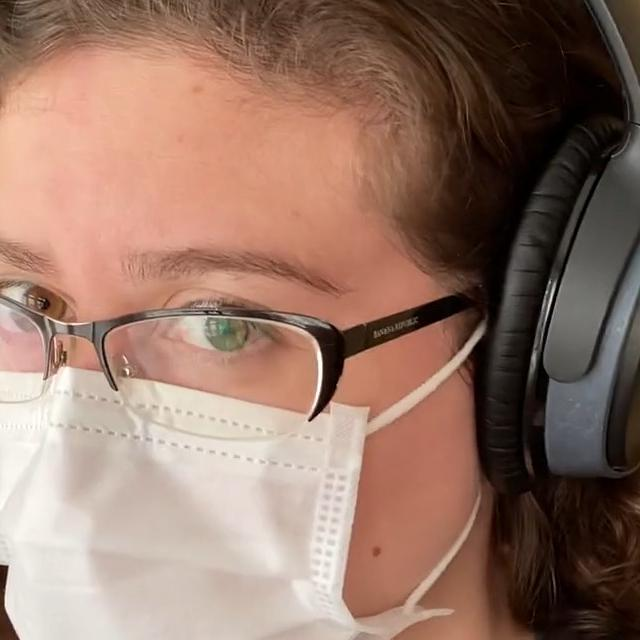Mask: (0, 360, 498, 640)
NO-Hardhat: (0, 0, 640, 111)
Person: (0, 0, 640, 640)
